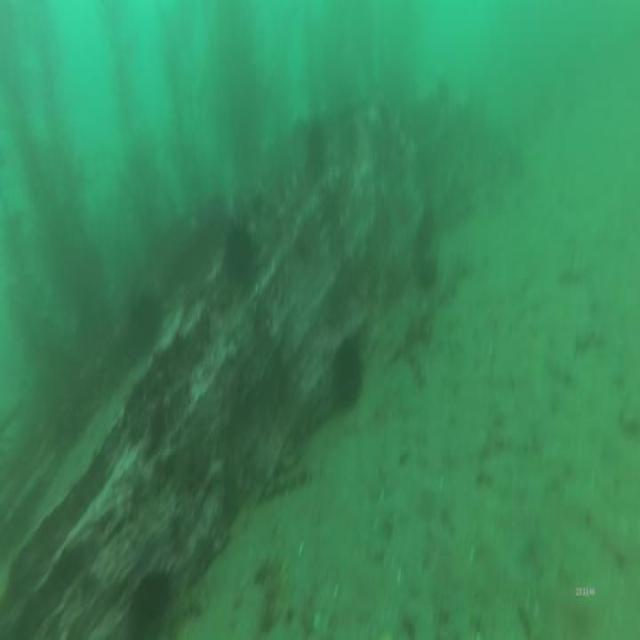echinus: (126, 553, 182, 637), (326, 328, 374, 424), (215, 212, 258, 280)
holothurian: (251, 553, 289, 635)
